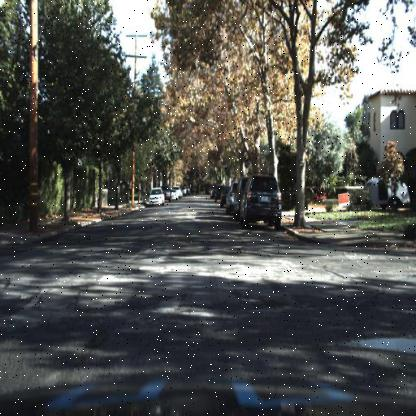car: (241, 171, 283, 231), (358, 170, 408, 212), (234, 174, 245, 225), (226, 178, 237, 216), (148, 186, 166, 206), (149, 186, 167, 206), (169, 188, 178, 202)
